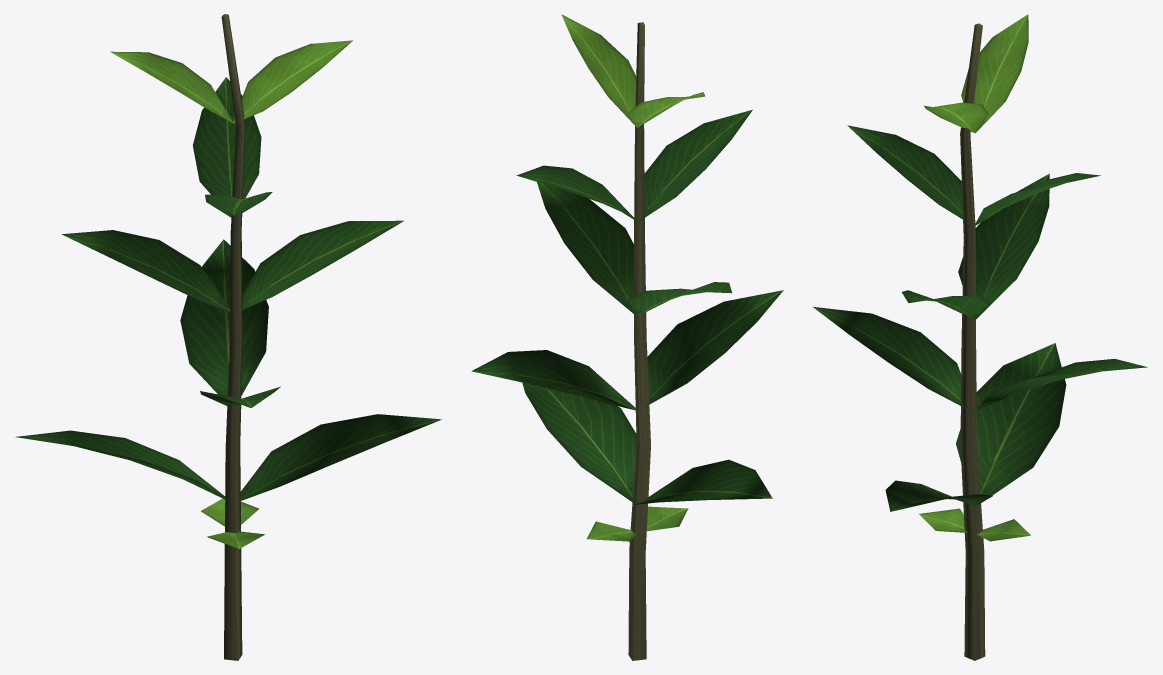
The model's file is coffea-robusta-seedling-lod0.glb.
3 renders of one model, left to right at view 1: azimuth 30°, elevation 25°; view 2: azimuth 150°, elevation 25°; view 3: azimuth 270°, elevation 25°, orthographic. The views are drawn at different scales.
Parts seen in each view (by area): view 1: coffee_leaves, coffee_bark; view 2: coffee_leaves, coffee_bark; view 3: coffee_leaves, coffee_bark.
Boxes of the visible parts, x1=… form: coffee_leaves: x1=15, y1=40, x2=441, y2=548; coffee_bark: x1=221, y1=14, x2=245, y2=660; coffee_leaves: x1=471, y1=14, x2=783, y2=541; coffee_bark: x1=628, y1=22, x2=650, y2=660; coffee_leaves: x1=812, y1=14, x2=1147, y2=541; coffee_bark: x1=960, y1=23, x2=985, y2=660.
Bounding box in the file's own units: 0.1874 × 0.3348 × 0.1619.
Materials: 2 (2 with a texture image).
